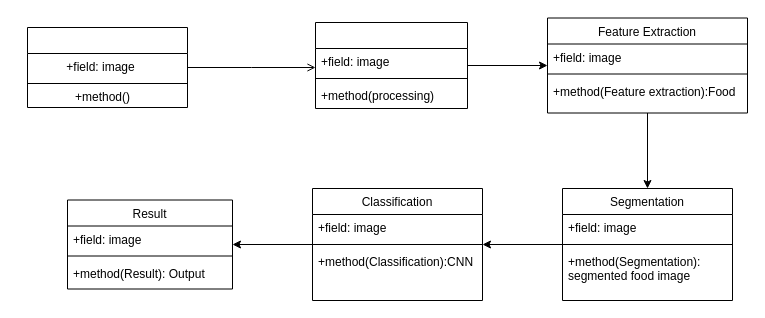
Some shapes in this 765 by 318 pixel diagram are drawn without their labels. The box of each missing label's shape, as (x1, y1, x2, y2) in pixels:
Image Processing: (314, 22, 468, 108)
Input: (26, 26, 188, 108)
